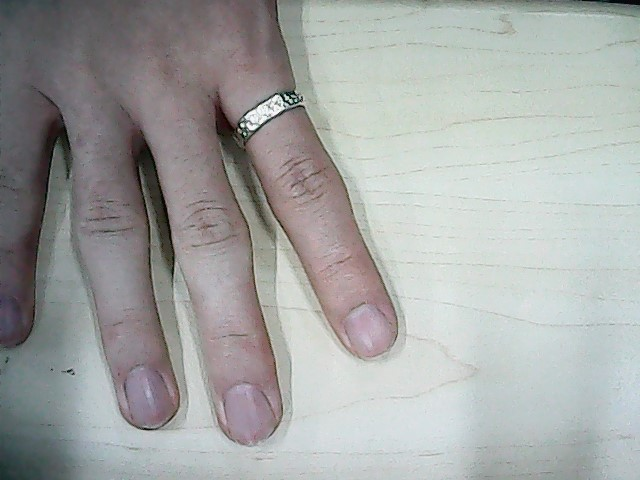nail: (217, 382, 277, 445), (337, 300, 395, 362), (122, 362, 174, 427), (1, 295, 22, 347)
